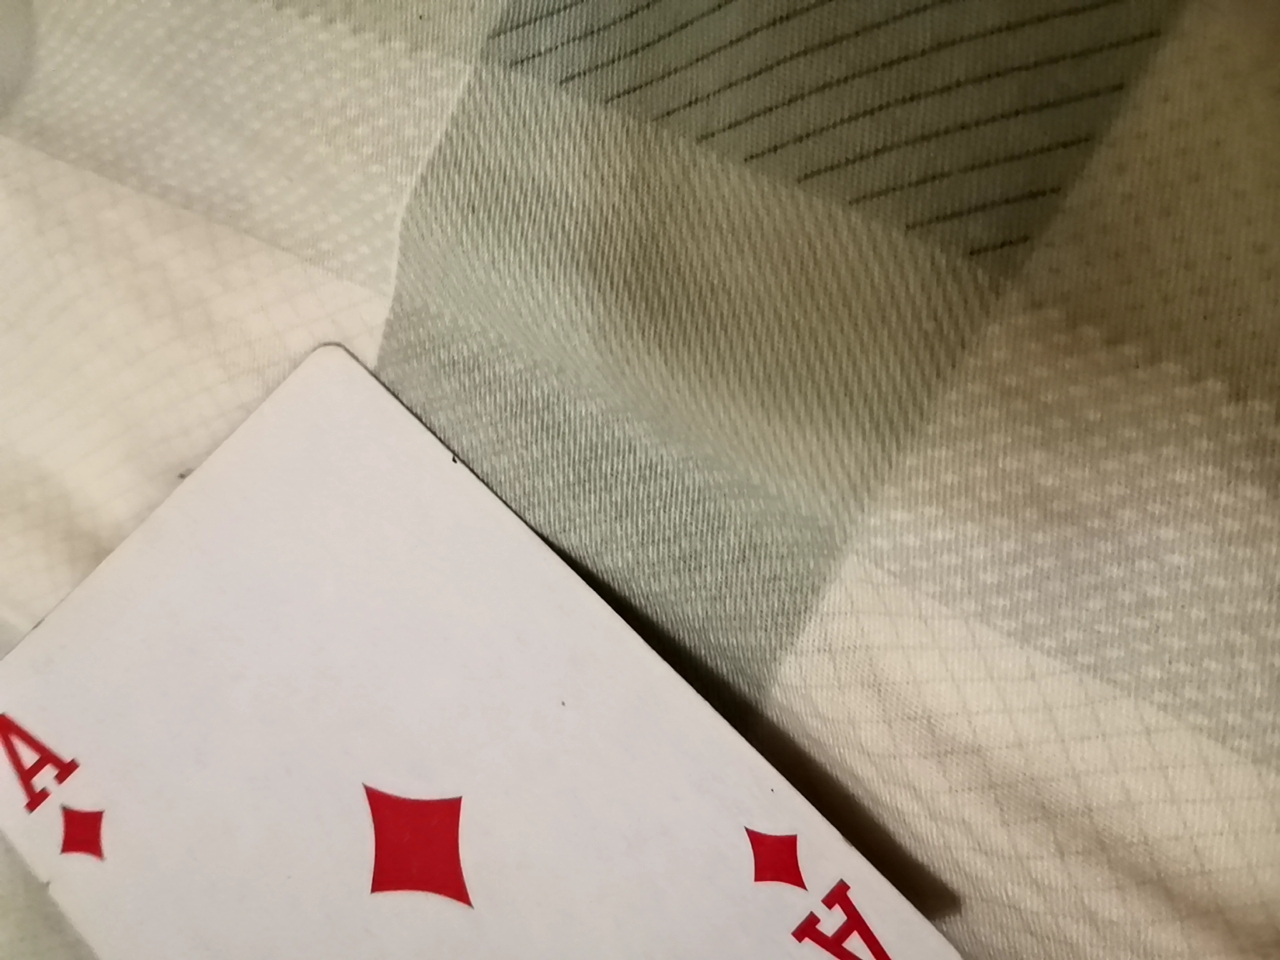fk a: (3, 336, 989, 951)
